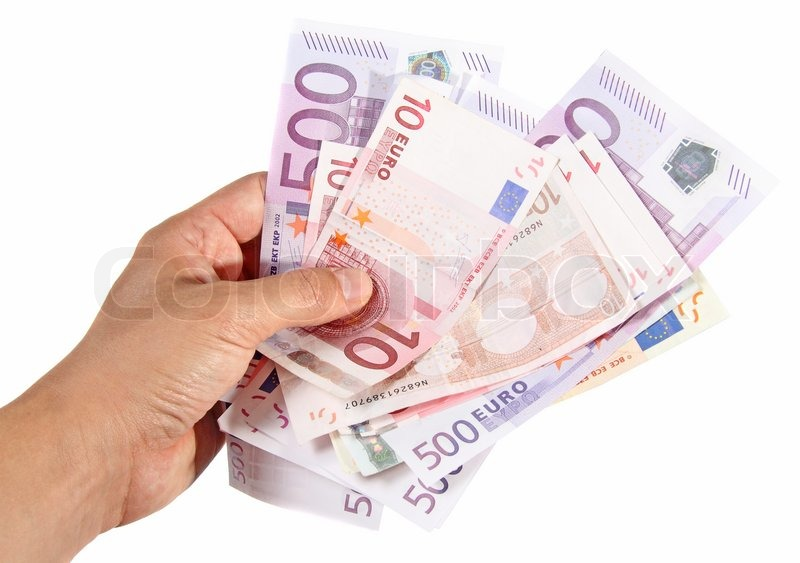billete: (210, 10, 785, 536)
